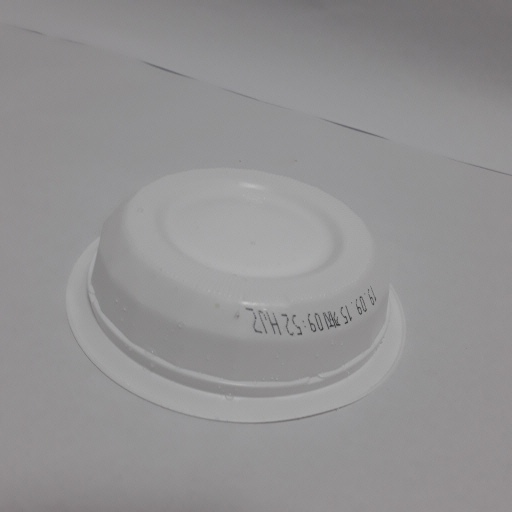Plastic_5: (60, 166, 408, 426)
